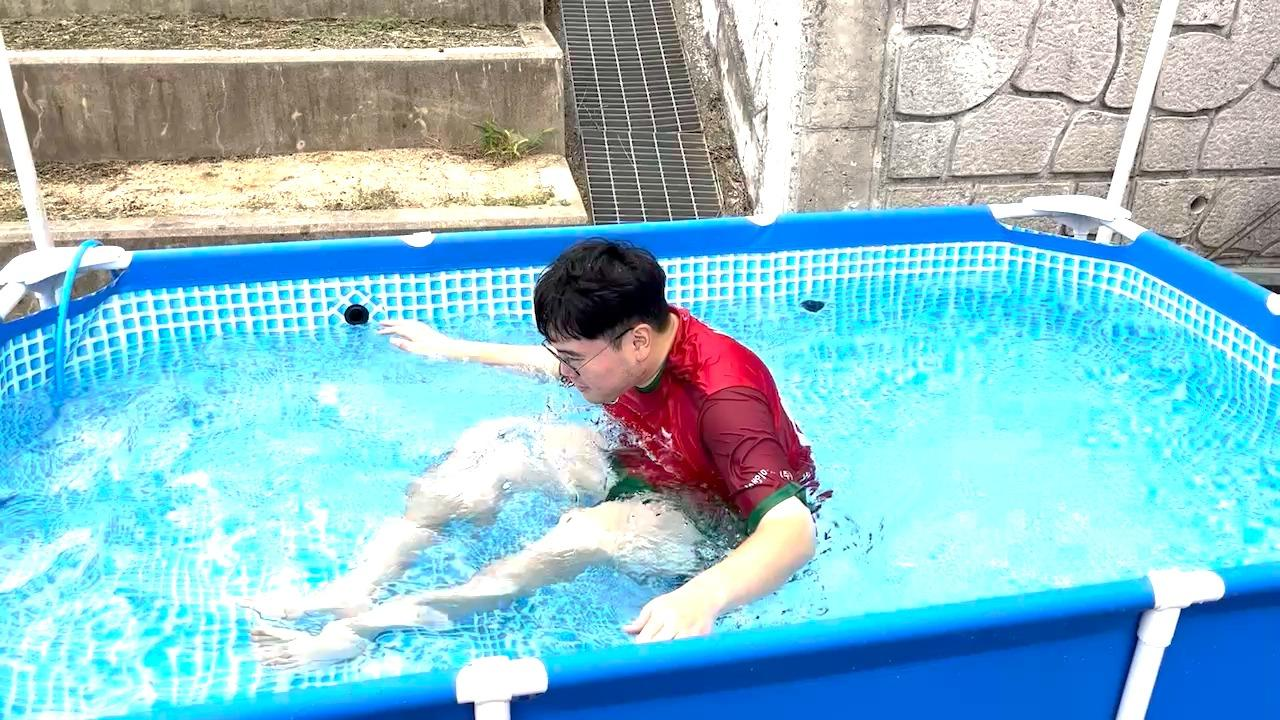Swimming: (205, 205, 957, 673)
